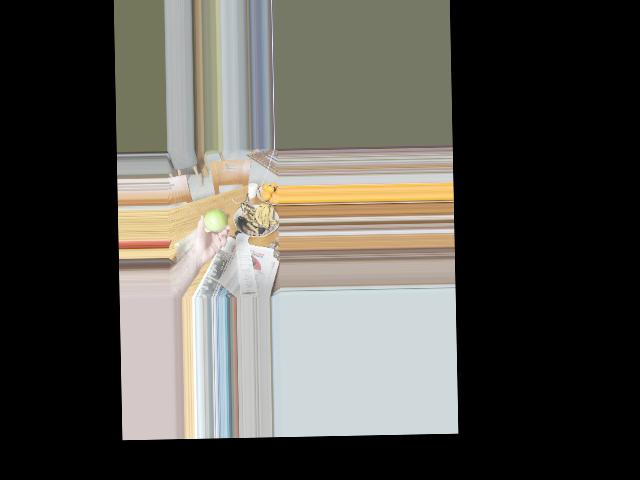apple: (204, 204, 227, 233)
